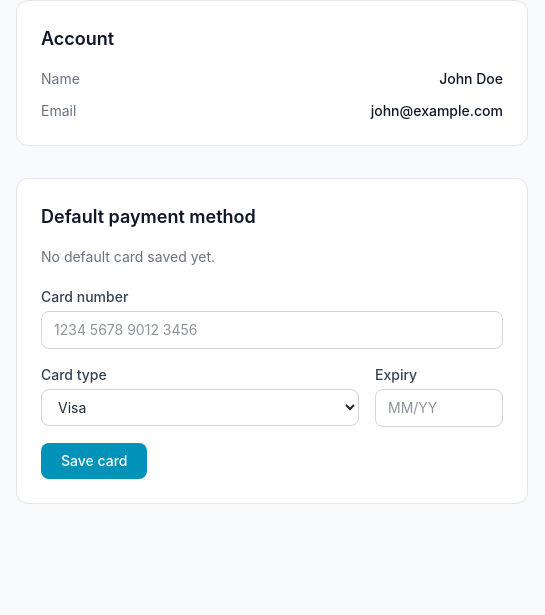
it: shows success message after saving
Expected: the button "Save card" is shown, x1=41 y1=443 x2=148 y2=479
Type "4111111111114242" into the field labelled "Card number".
click(272, 330); type("4111111111114242")  # box x1=41 y1=311 x2=503 y2=349
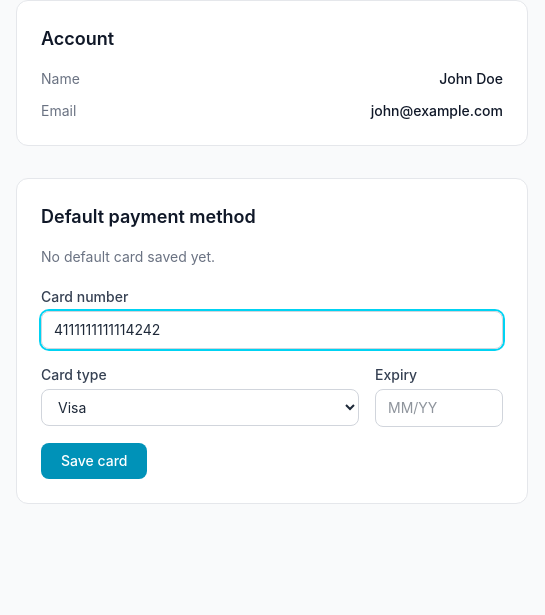
Type "12/29" into the field labelled "Expiry".
click(439, 408); type("12/29")  # box x1=375 y1=389 x2=503 y2=427
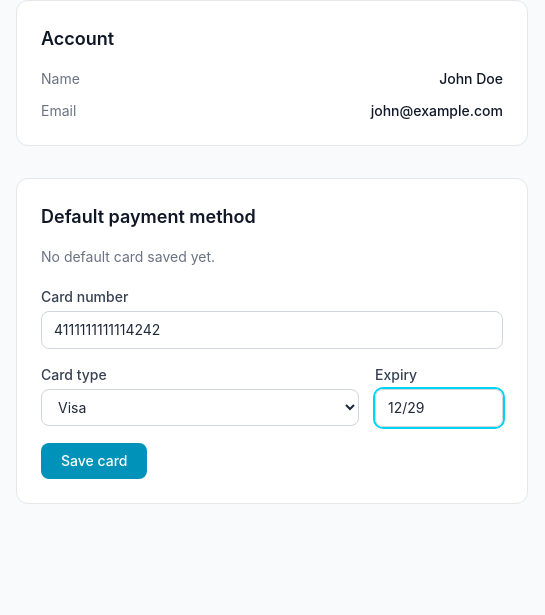
Click the button "Save card".
click(94, 461)  # box x1=41 y1=443 x2=148 y2=479
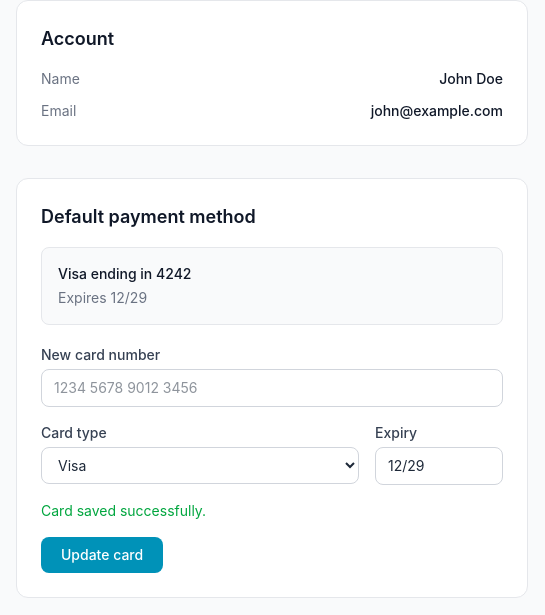
Expected: the text "Card saved successfully." is shown, x1=41 y1=502 x2=206 y2=519
